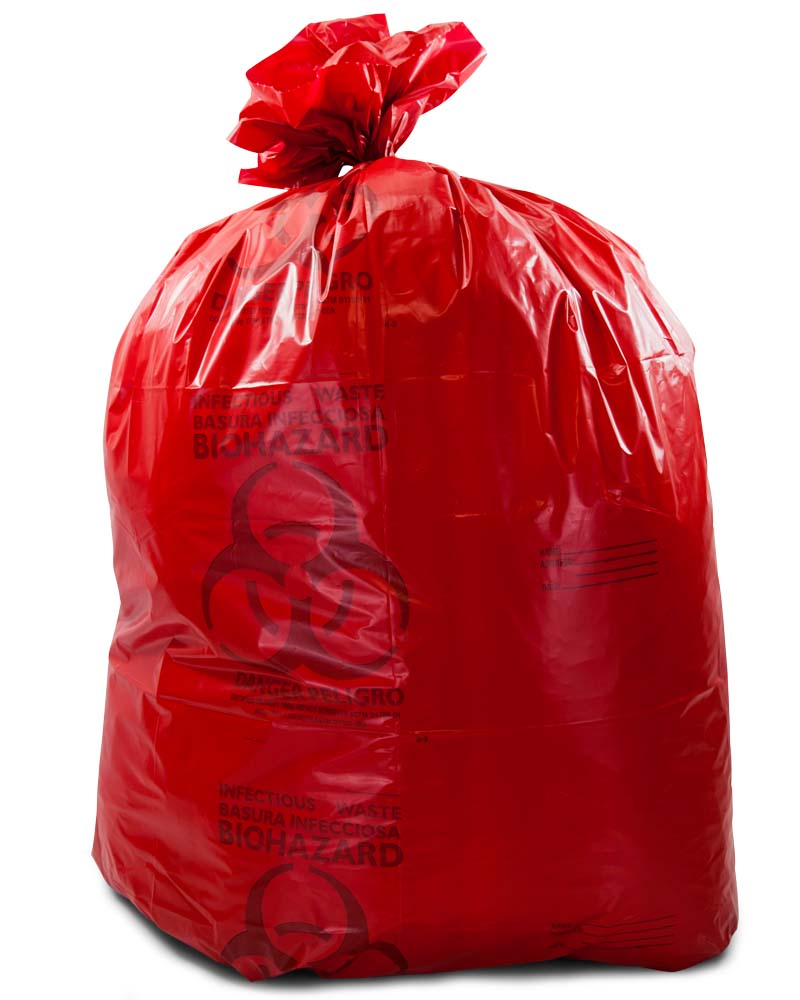plastic_bagwdw: (48, 11, 769, 996)
